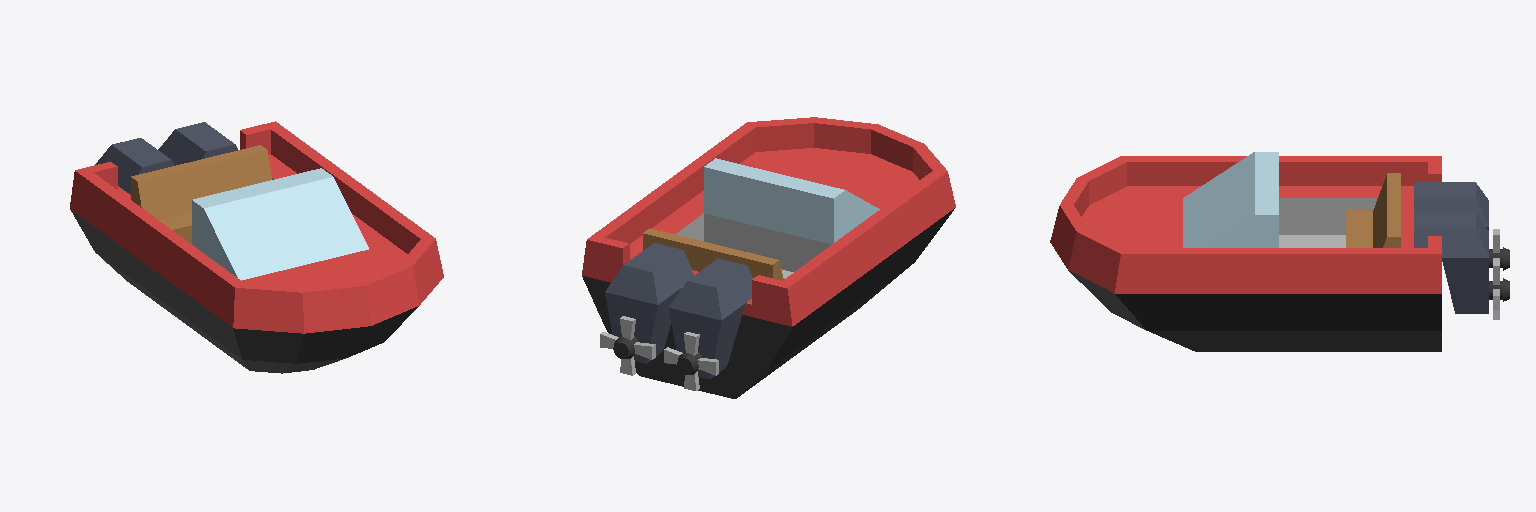
The model's file is watercraftPack_014.obj.
3 views of the same model, side by side, from view 1: azimuth 30°, elevation 25°; view 2: azimuth 150°, elevation 25°; view 3: azimuth 270°, elevation 25° (orthographic).
Visible parts, largest first — view 1: Mesh5 Group1 Model, Mesh1 Group2 Group1 Model, Mesh2 Group3 Group1 Model; view 2: Mesh5 Group1 Model, Mesh2 Group3 Group1 Model, Mesh1 Group2 Group1 Model, Mesh3 Group4 Group1 Model, Mesh4 Group5 Group1 Model; view 3: Mesh5 Group1 Model, Mesh1 Group2 Group1 Model, Mesh2 Group3 Group1 Model.
Boxes of the visible parts, x1,y1,x2,y2 form: Mesh5 Group1 Model: [70, 121, 443, 373]; Mesh1 Group2 Group1 Model: [158, 122, 237, 165]; Mesh2 Group3 Group1 Model: [95, 138, 174, 194]; Mesh5 Group1 Model: [582, 117, 955, 398]; Mesh2 Group3 Group1 Model: [669, 258, 752, 378]; Mesh1 Group2 Group1 Model: [605, 243, 693, 363]; Mesh3 Group4 Group1 Model: [600, 316, 655, 375]; Mesh4 Group5 Group1 Model: [664, 332, 718, 390]; Mesh5 Group1 Model: [1050, 152, 1441, 351]; Mesh1 Group2 Group1 Model: [1414, 213, 1509, 313]; Mesh2 Group3 Group1 Model: [1414, 182, 1509, 270].
Bounding box in the file's own units: 1.78 × 1.17 × 3.37.